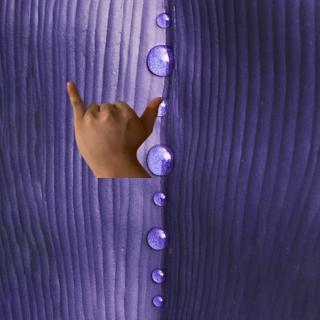HAVE: (59, 77, 170, 171)
